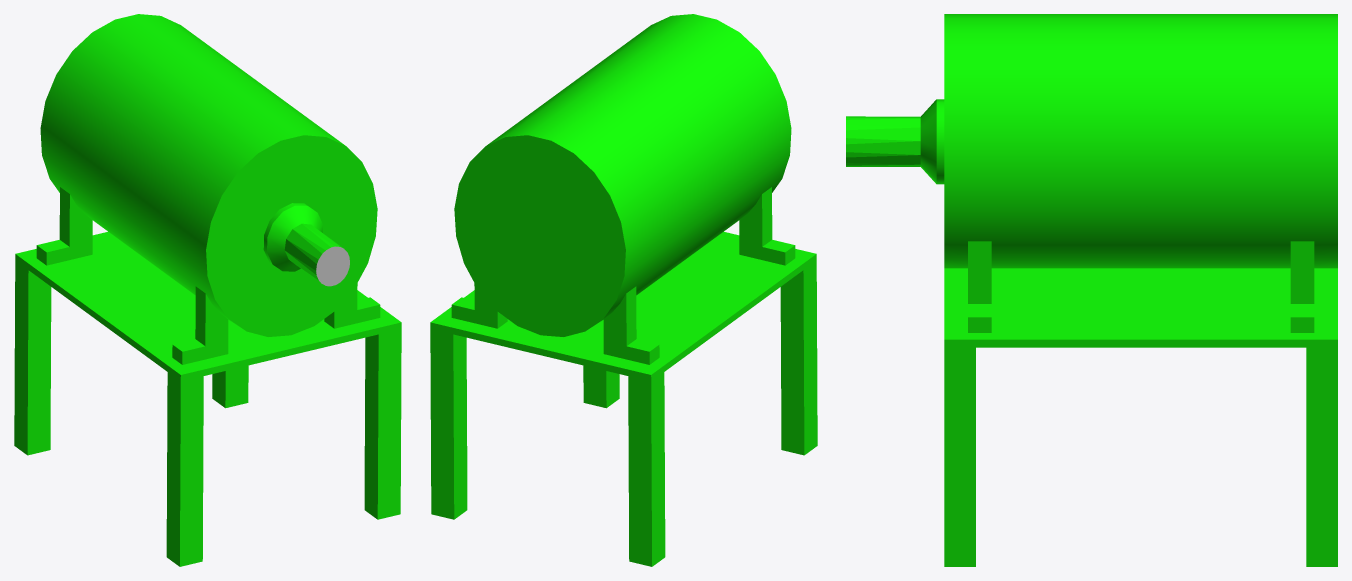
File: motor1.obj
3 views of the same model, side by side, from view 1: azimuth 30°, elevation 25°; view 2: azimuth 150°, elevation 25°; view 3: azimuth 270°, elevation 25° (orthographic). The views are drawn at different scales.
Parts seen in each view (by area): view 1: ramme; view 2: ramme; view 3: ramme.
Boxes of the visible parts, left/top/right/bottom form: ramme: left=14, top=14, right=401, bottom=566; ramme: left=430, top=14, right=817, bottom=566; ramme: left=846, top=14, right=1337, bottom=566.
Size of the model in its own units: 19.34 by 33.57 by 31.24.
